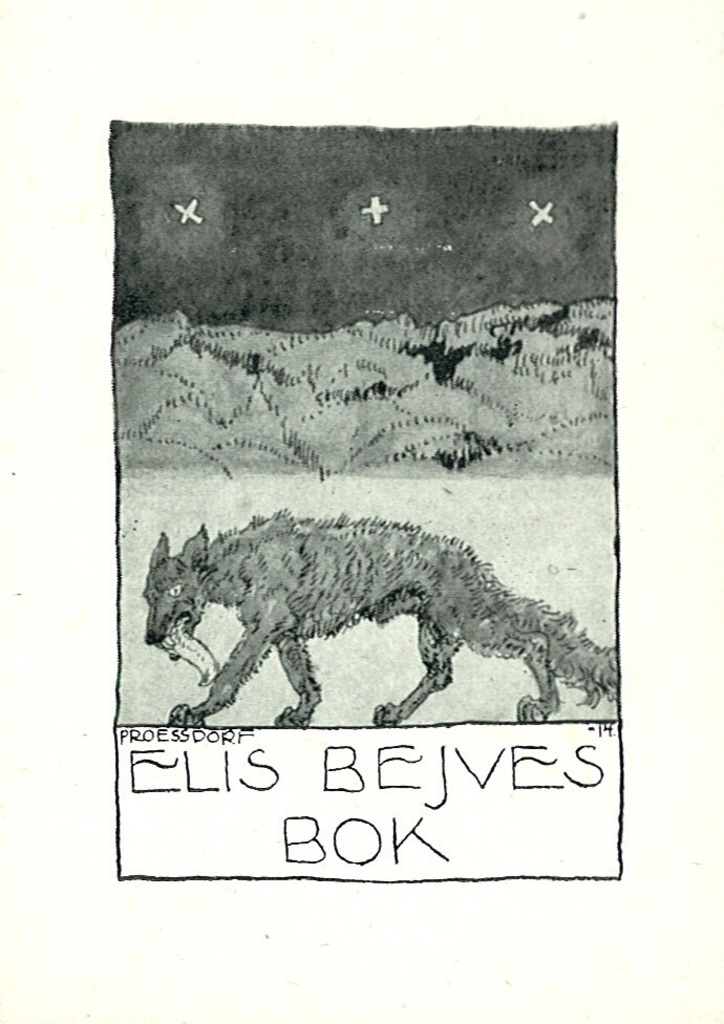Animal: (142, 520, 622, 726)
